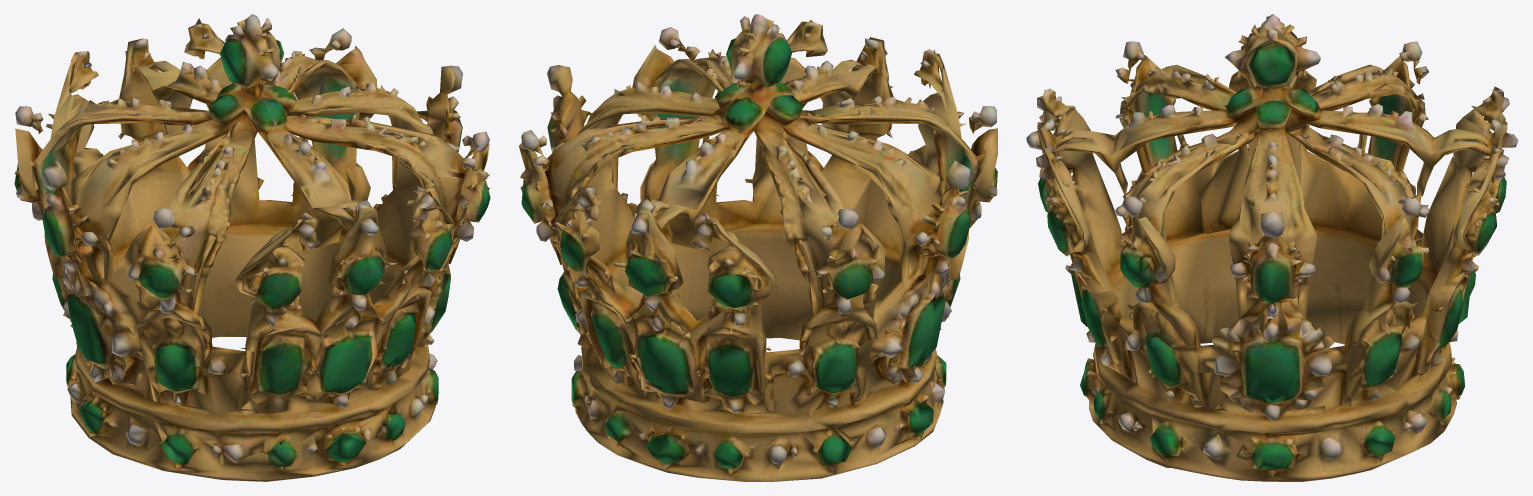
File: iblo-corona.13addb92.glb
The picture shows the model from 3 angles, left to right: view 1: azimuth 30°, elevation 25°; view 2: azimuth 150°, elevation 25°; view 3: azimuth 270°, elevation 25°; orthographic projection.
Visible parts, largest first — view 1: tripo_node_9212e0d5-65ee-407f-a358-539c1452d34c; view 2: tripo_node_9212e0d5-65ee-407f-a358-539c1452d34c; view 3: tripo_node_9212e0d5-65ee-407f-a358-539c1452d34c.
Part boxes in pixels (left/top/right/bottom): tripo_node_9212e0d5-65ee-407f-a358-539c1452d34c: left=14, top=14, right=490, bottom=481; tripo_node_9212e0d5-65ee-407f-a358-539c1452d34c: left=519, top=14, right=997, bottom=481; tripo_node_9212e0d5-65ee-407f-a358-539c1452d34c: left=1026, top=14, right=1518, bottom=481.
Size of the model in its own units: 0.9789 by 0.8825 by 0.9968.
Materials: 1 (1 with a texture image).
